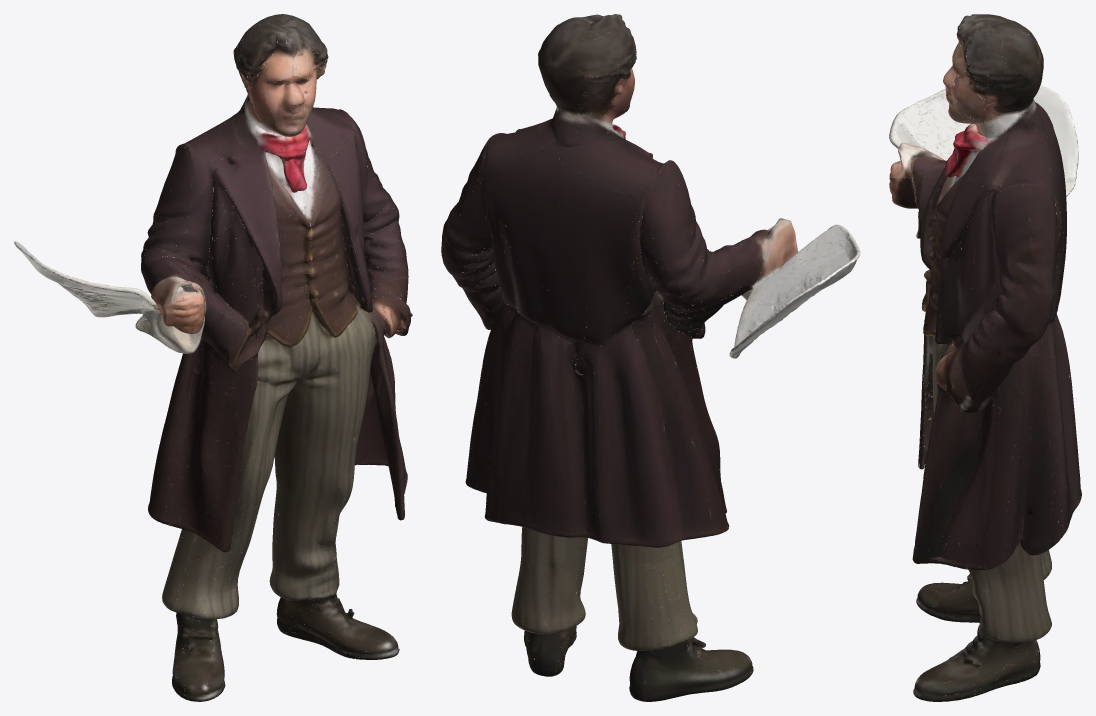
File: char_actor_m2.glb
The picture shows the model from 3 angles, left to right: view 1: azimuth 30°, elevation 25°; view 2: azimuth 150°, elevation 25°; view 3: azimuth 270°, elevation 25°; orthographic projection. The views are drawn at different scales.
Parts seen in each view (by area): view 1: geometry_0; view 2: geometry_0; view 3: geometry_0.
Boxes of the visible parts, box(x1,y1,x2,y2) form: geometry_0: box(14, 14, 412, 701); geometry_0: box(441, 14, 860, 701); geometry_0: box(889, 14, 1081, 701).
Bounding box in the file's own units: 1.14 × 1.8 × 0.4923.
Materials: 1 (1 with a texture image).
